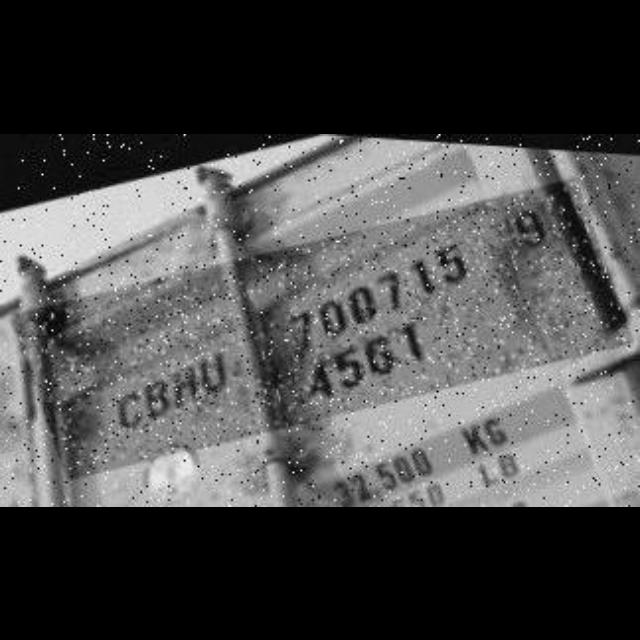0: (350, 268, 378, 328), (320, 286, 348, 340), (392, 455, 421, 485), (412, 441, 436, 477), (426, 480, 448, 506)
1: (408, 248, 436, 304), (398, 312, 426, 368)
2: (352, 471, 378, 503)
3: (329, 480, 355, 506)
5: (434, 232, 474, 292), (335, 341, 361, 394), (370, 462, 400, 492)
6: (366, 328, 394, 380)
7: (288, 298, 318, 362), (377, 262, 403, 320)
9: (516, 204, 548, 250)
a: (303, 360, 337, 406)
b: (142, 368, 172, 422), (500, 447, 520, 477)
c: (113, 384, 145, 434)
g: (482, 413, 514, 447)
h: (168, 358, 198, 412)
k: (460, 424, 492, 461)
l: (473, 460, 503, 492)
u: (200, 345, 228, 403)
